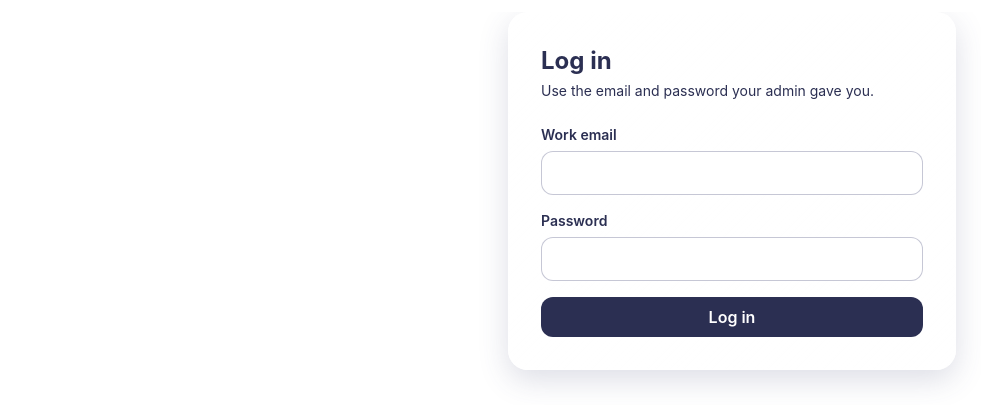
LoginPage › sends the email and password to the login API
Type "asha@atomplus.in" into the field labelled "Work email" at (732, 173), box [541,151,923,195]
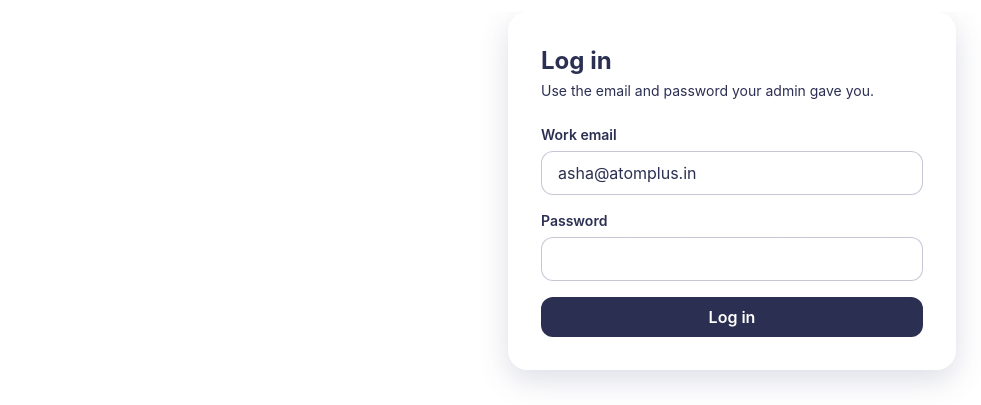
Type "Secret#1" into the password field labelled "Password" at (732, 259), box [541,237,923,281]
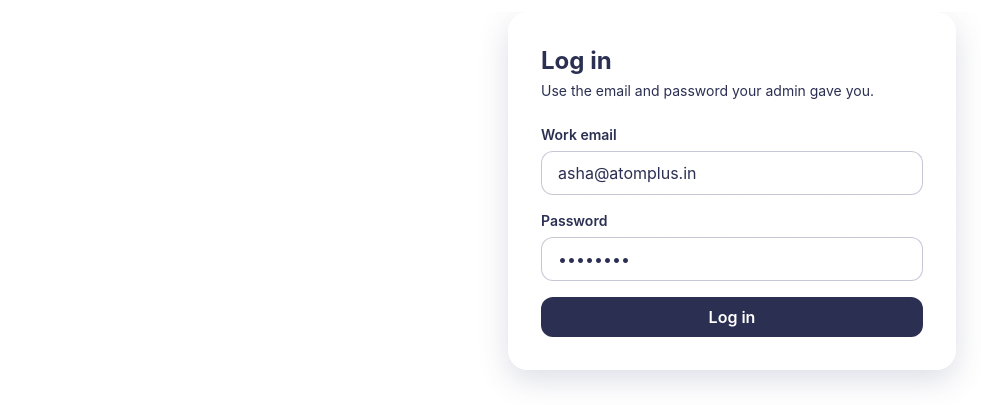
Click the button "Log in" at (732, 317), box [541,297,923,337]
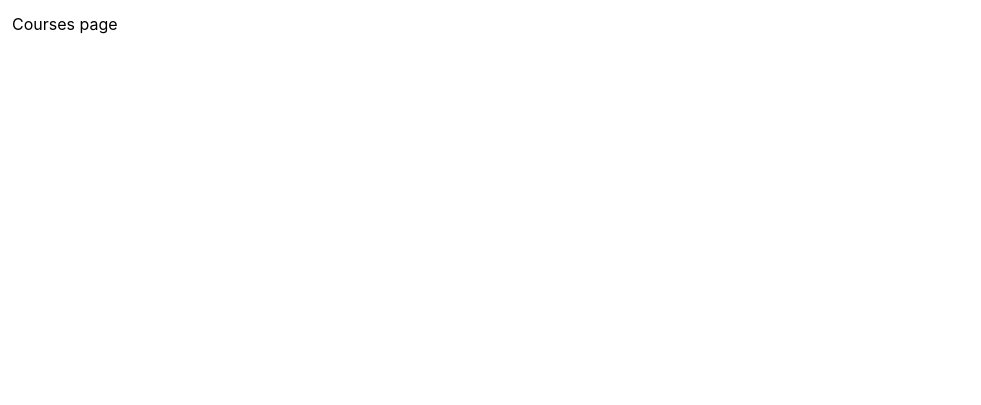
Now the text "Courses page" is shown, box [12,14,118,34]
